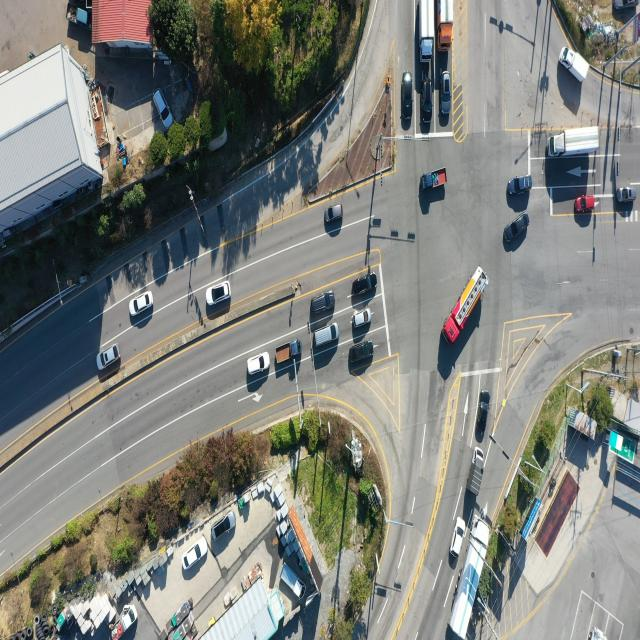car: (181, 537, 208, 573), (502, 212, 528, 246), (153, 89, 172, 129), (348, 340, 375, 367), (477, 392, 491, 442), (402, 72, 414, 129), (312, 322, 338, 348), (451, 516, 466, 560), (212, 512, 235, 540), (130, 293, 154, 318), (352, 273, 377, 297), (98, 344, 120, 371), (207, 282, 231, 306), (247, 350, 271, 374), (313, 292, 338, 314), (423, 78, 434, 126), (442, 74, 453, 120), (507, 178, 531, 198), (323, 204, 343, 225), (352, 308, 372, 328), (573, 196, 594, 214), (617, 185, 638, 202), (615, 0, 638, 10)
medium_truck: (447, 517, 492, 638), (442, 264, 486, 346), (548, 128, 600, 158), (420, 0, 436, 61), (435, 0, 452, 49)
small_truck: (560, 46, 589, 84), (468, 447, 488, 498), (110, 607, 138, 640), (281, 561, 304, 600), (275, 340, 301, 365), (65, 0, 89, 24), (422, 169, 448, 191)
